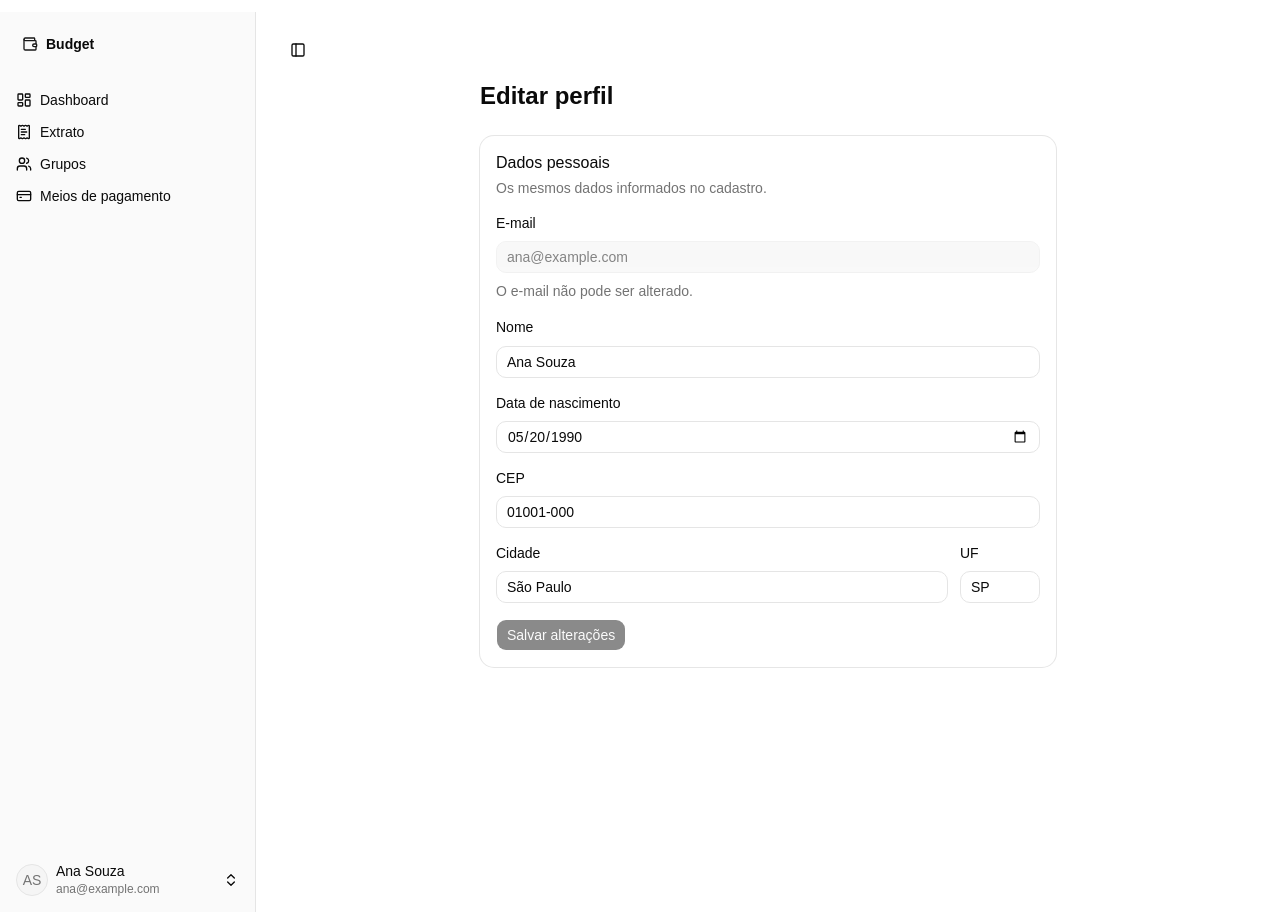
Test case: Editar perfil route (/settings/profile) › saves only the name and updates the side menu
Expected: the heading "Editar perfil" is shown, [480, 82, 613, 109]
Step 1. Replace the text in the field labelled "Nome" with "  Ana Lima " → x=768, y=362, box [496, 346, 1040, 378]
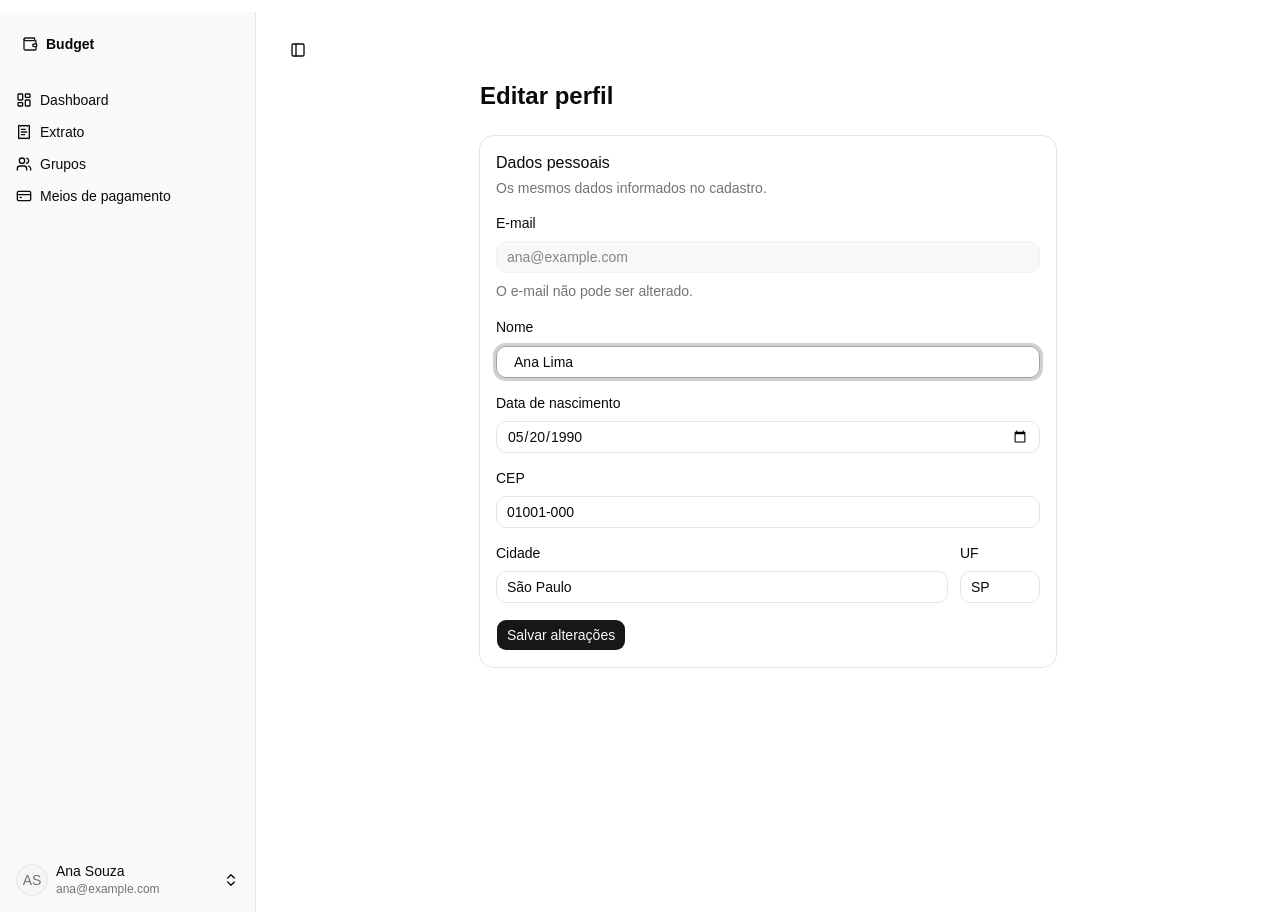
Step 2. Click the button "Salvar alterações" → x=561, y=635, box [496, 619, 626, 651]
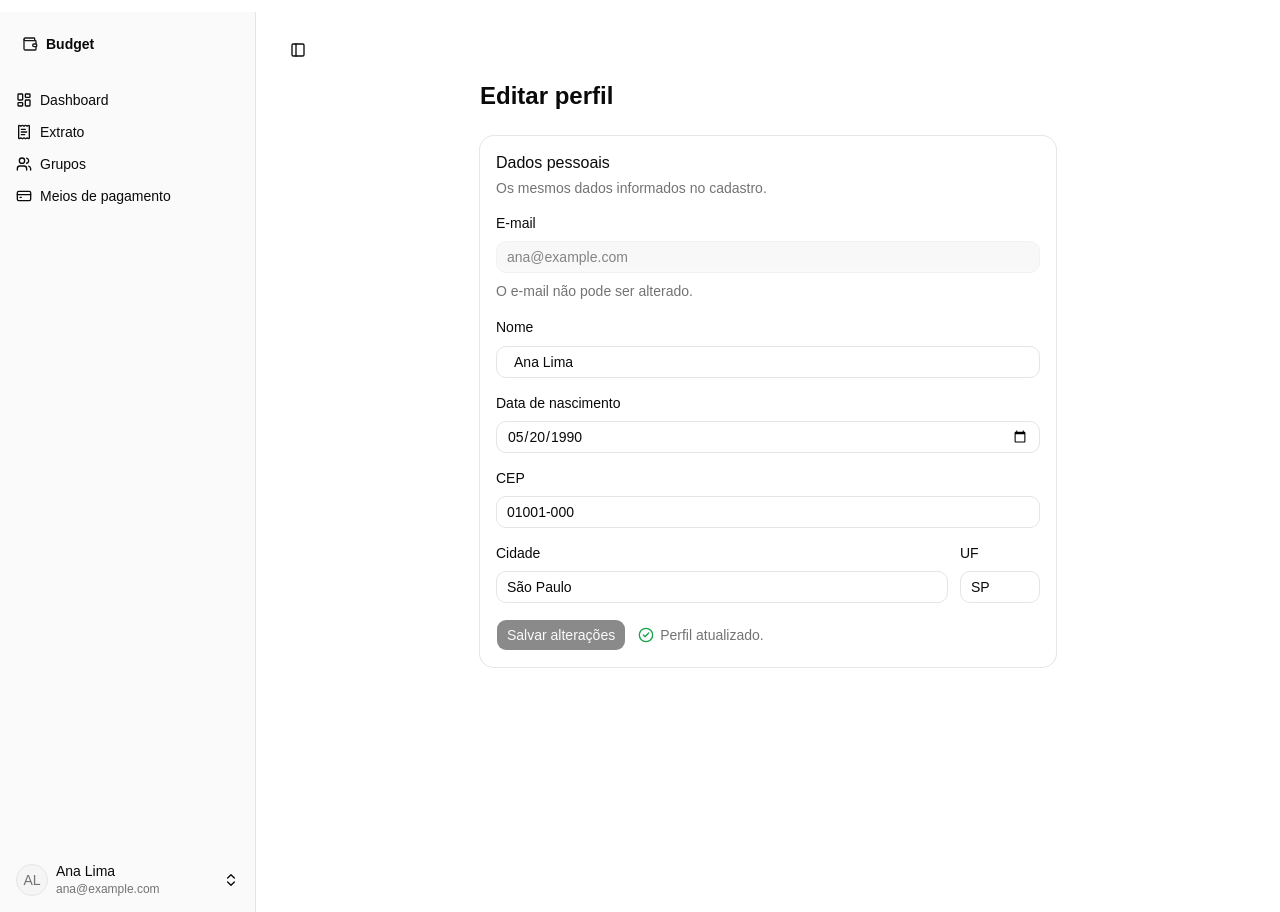
Result: the message reads "Perfil atualizado." at [660, 627, 764, 643]
Result: the button with aria-label "Menu da conta de Ana Lima" is shown at [8, 856, 247, 904]
Result: the button "Salvar alterações" is disabled at [496, 619, 626, 651]
Step 3. Type "s" into the field labelled "Nome" → x=768, y=362, box [496, 346, 1040, 378]
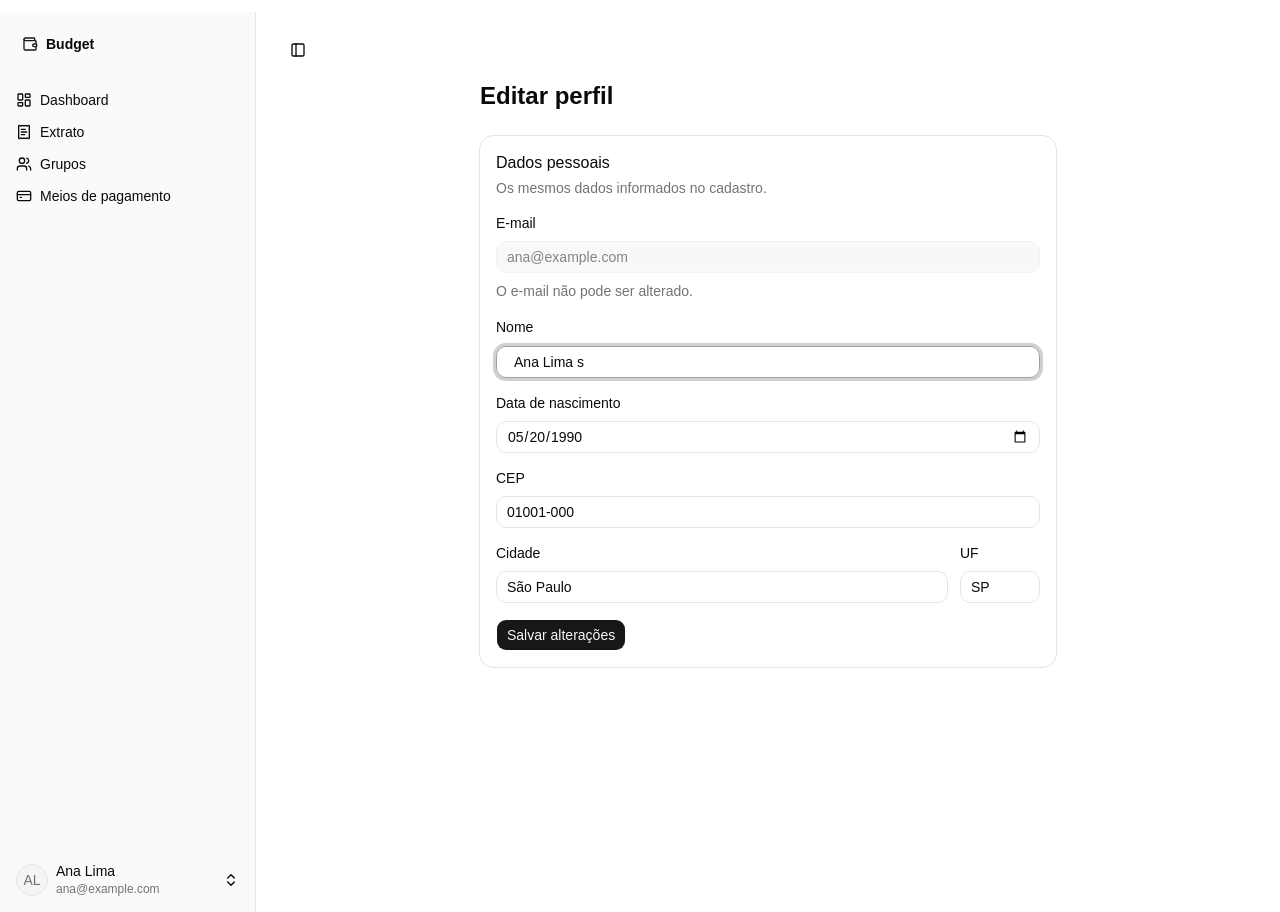
Result: the message "Perfil atualizado." is gone
